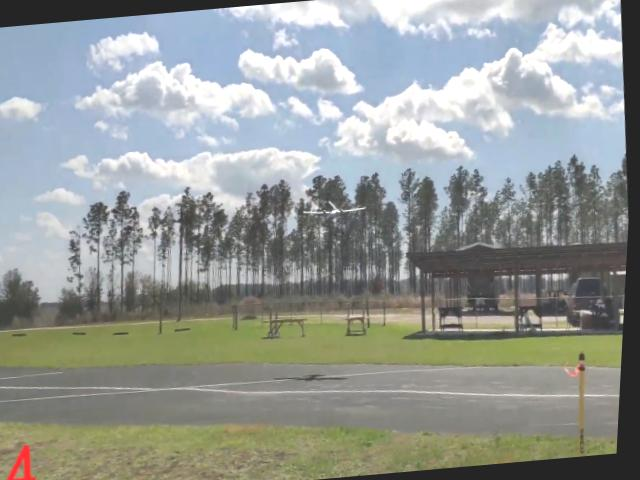plane: (302, 197, 369, 222)
